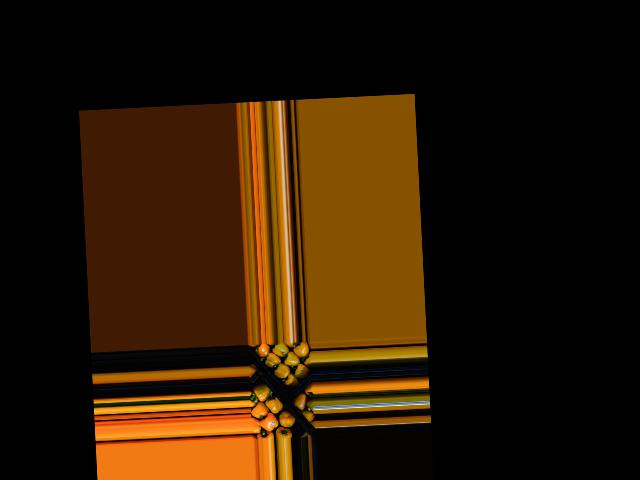bell_pepper: (295, 341, 312, 361)
